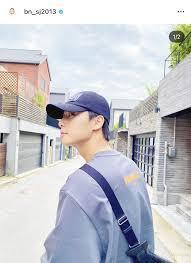sweater: (37, 151, 155, 263)
